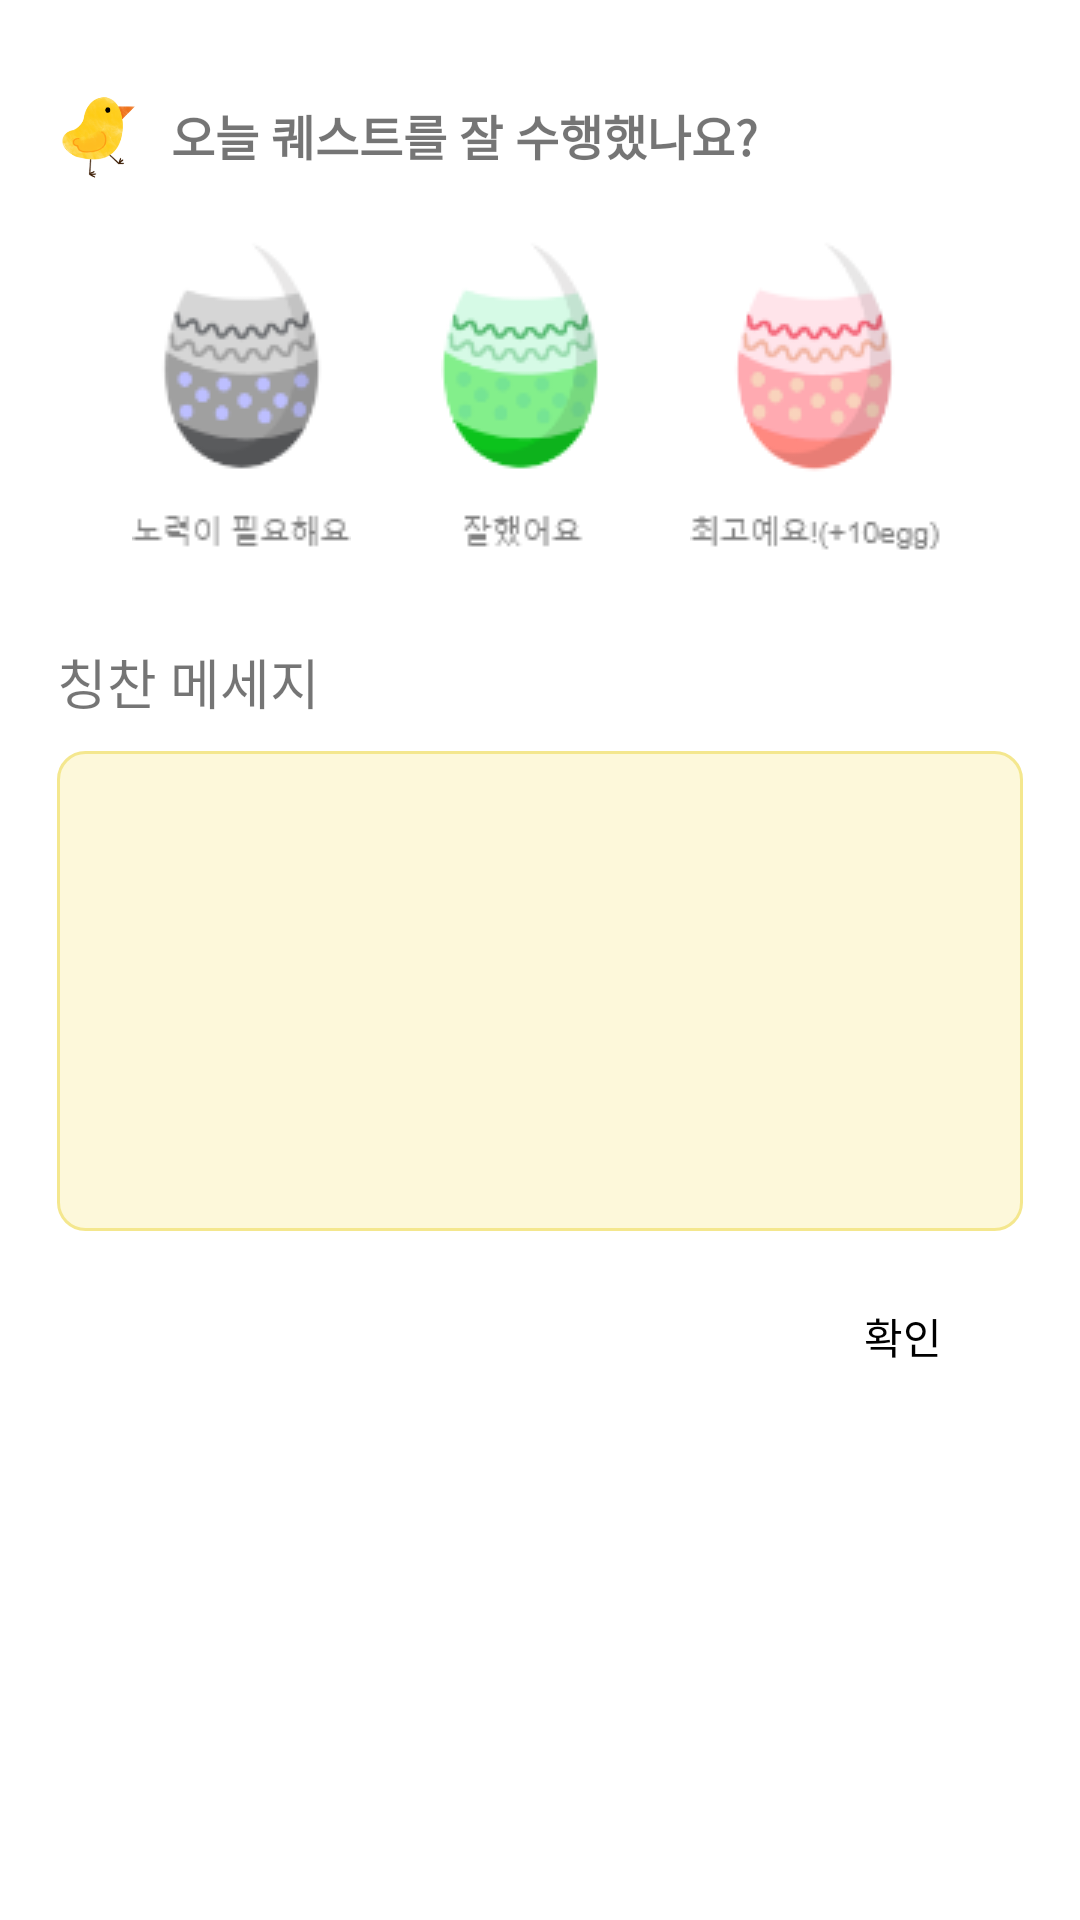

Icons on this 1080×1920 Android screen, each with the point to tap as (x,y):
chick: (98,137)
